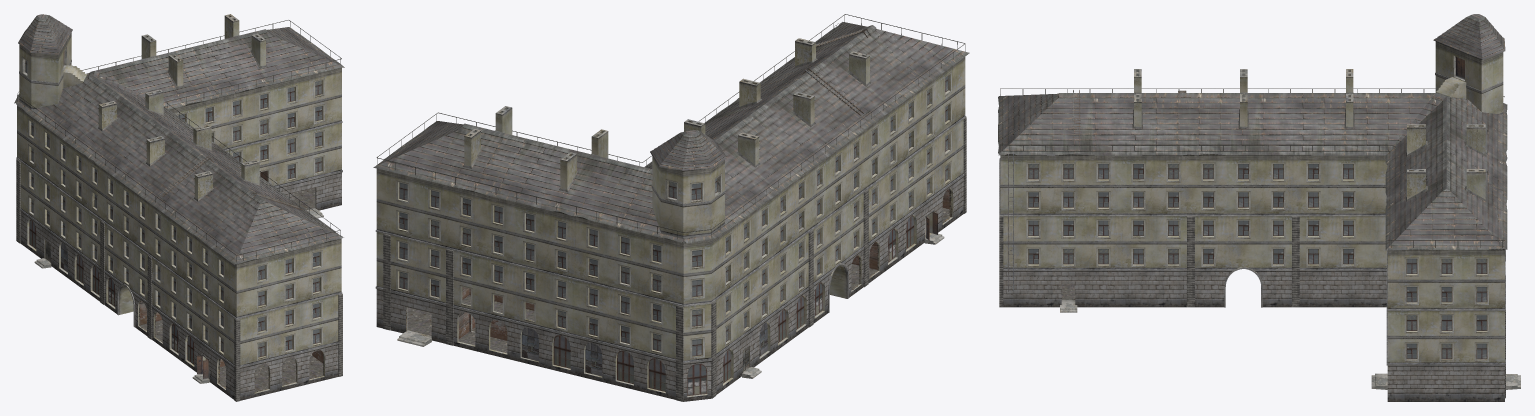
The model's file is Building_City_03_3LOD1.FBX.
3 views of the same model, side by side, from view 1: azimuth 30°, elevation 25°; view 2: azimuth 150°, elevation 25°; view 3: azimuth 270°, elevation 25° (orthographic). The views are drawn at different scales.
Visible parts, largest first — view 1: Building_City_03_3LOD1, Building_City_03_3RoofLOD1, Building_City_03_3FrameLOD1, Building_City_03_3TowerLOD1, Building_City_03_3TubeLOD1; view 2: Building_City_03_3LOD1, Building_City_03_3RoofLOD1, Building_City_03_3FrameLOD1, Building_City_03_3TowerLOD1, Building_City_03_3TubeLOD1; view 3: Building_City_03_3LOD1, Building_City_03_3RoofLOD1, Building_City_03_3FrameLOD1, Building_City_03_3TowerLOD1, Building_City_03_3TubeLOD1.
Part boxes in pixels (bbox=[...]): Building_City_03_3LOD1: bbox=[16, 68, 342, 401]; Building_City_03_3RoofLOD1: bbox=[14, 20, 344, 264]; Building_City_03_3FrameLOD1: bbox=[28, 78, 324, 360]; Building_City_03_3TowerLOD1: bbox=[18, 14, 87, 109]; Building_City_03_3TubeLOD1: bbox=[98, 14, 265, 199]; Building_City_03_3LOD1: bbox=[375, 57, 966, 401]; Building_City_03_3RoofLOD1: bbox=[373, 14, 969, 243]; Building_City_03_3FrameLOD1: bbox=[396, 71, 951, 359]; Building_City_03_3TowerLOD1: bbox=[650, 130, 726, 238]; Building_City_03_3TubeLOD1: bbox=[464, 38, 869, 189]; Building_City_03_3LOD1: bbox=[999, 154, 1520, 401]; Building_City_03_3RoofLOD1: bbox=[998, 88, 1507, 250]; Building_City_03_3FrameLOD1: bbox=[1026, 162, 1488, 361]; Building_City_03_3TowerLOD1: bbox=[1433, 14, 1505, 114]; Building_City_03_3TubeLOD1: bbox=[1134, 69, 1485, 199].
Size of the model in its own units: 3703 by 5201 by 2719.
Materials: 6 (6 with a texture image).
